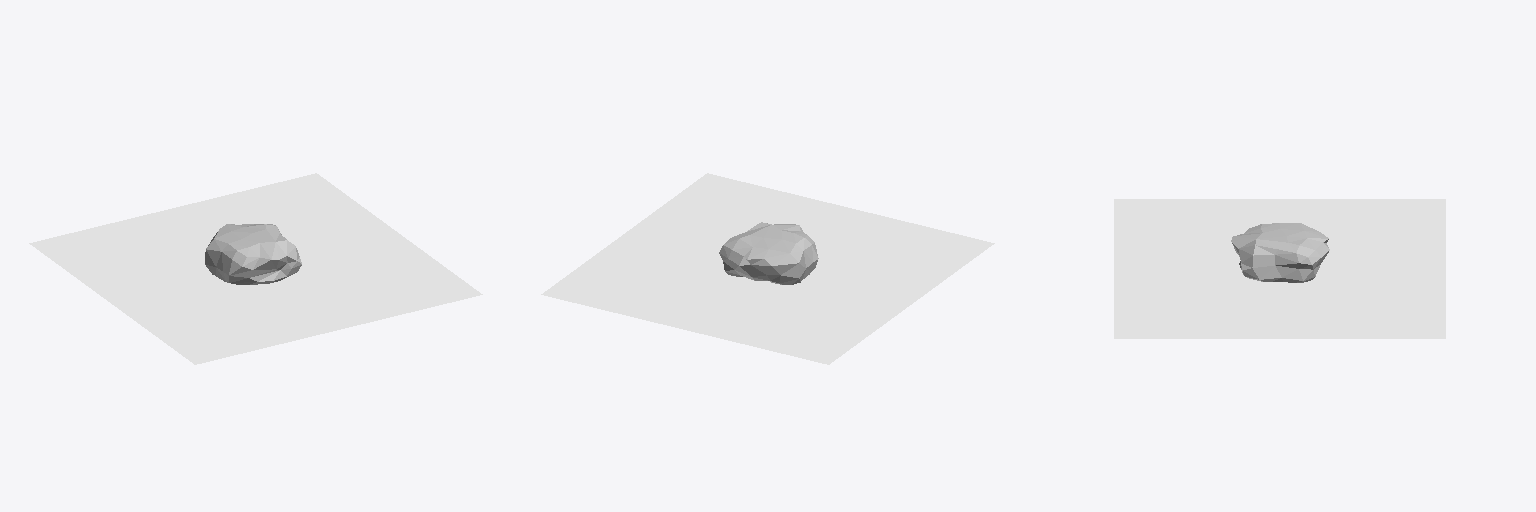
The model's file is figure.obj.
3 views of the same model, side by side, from view 1: azimuth 30°, elevation 25°; view 2: azimuth 150°, elevation 25°; view 3: azimuth 270°, elevation 25° (orthographic).
Visible parts, largest first — view 1: Plane, Cube; view 2: Plane, Cube; view 3: Plane, Cube.
Part boxes in pixels (x1,y1,x2,y2): Plane: (29, 173, 482, 364); Cube: (205, 224, 301, 284); Plane: (541, 173, 994, 364); Cube: (719, 222, 818, 284); Plane: (1114, 199, 1445, 338); Cube: (1231, 223, 1329, 282).
Bounding box in the file's own units: 12.17 × 1.68 × 12.17.